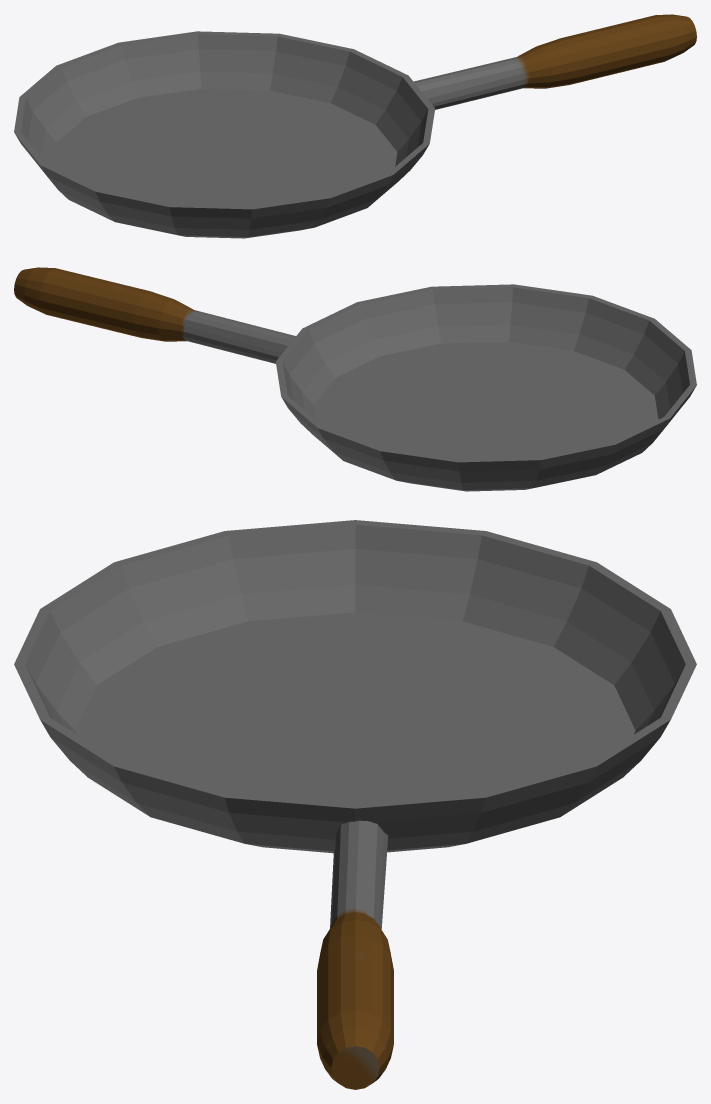
Rendered from Cooking Pan.glb.
3 renders of one model, top to bottom at view 1: azimuth 30°, elevation 25°; view 2: azimuth 150°, elevation 25°; view 3: azimuth 270°, elevation 25°, orthographic. The views are drawn at different scales.
Visible parts, largest first — view 1: Cylinder.001; view 2: Cylinder.001; view 3: Cylinder.001.
Part boxes in pixels (left/top/right/bottom): Cylinder.001: left=14, top=14, right=696, bottom=238; Cylinder.001: left=14, top=267, right=696, bottom=491; Cylinder.001: left=14, top=520, right=696, bottom=1089.
Size of the model in its own units: 4.97 by 0.4023 by 2.82.
Materials: 1 (1 with a texture image).
